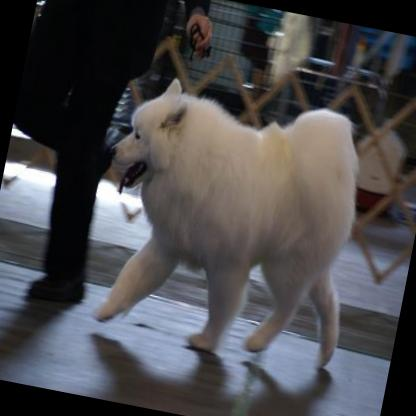Samoyed: (72, 63, 382, 376)
